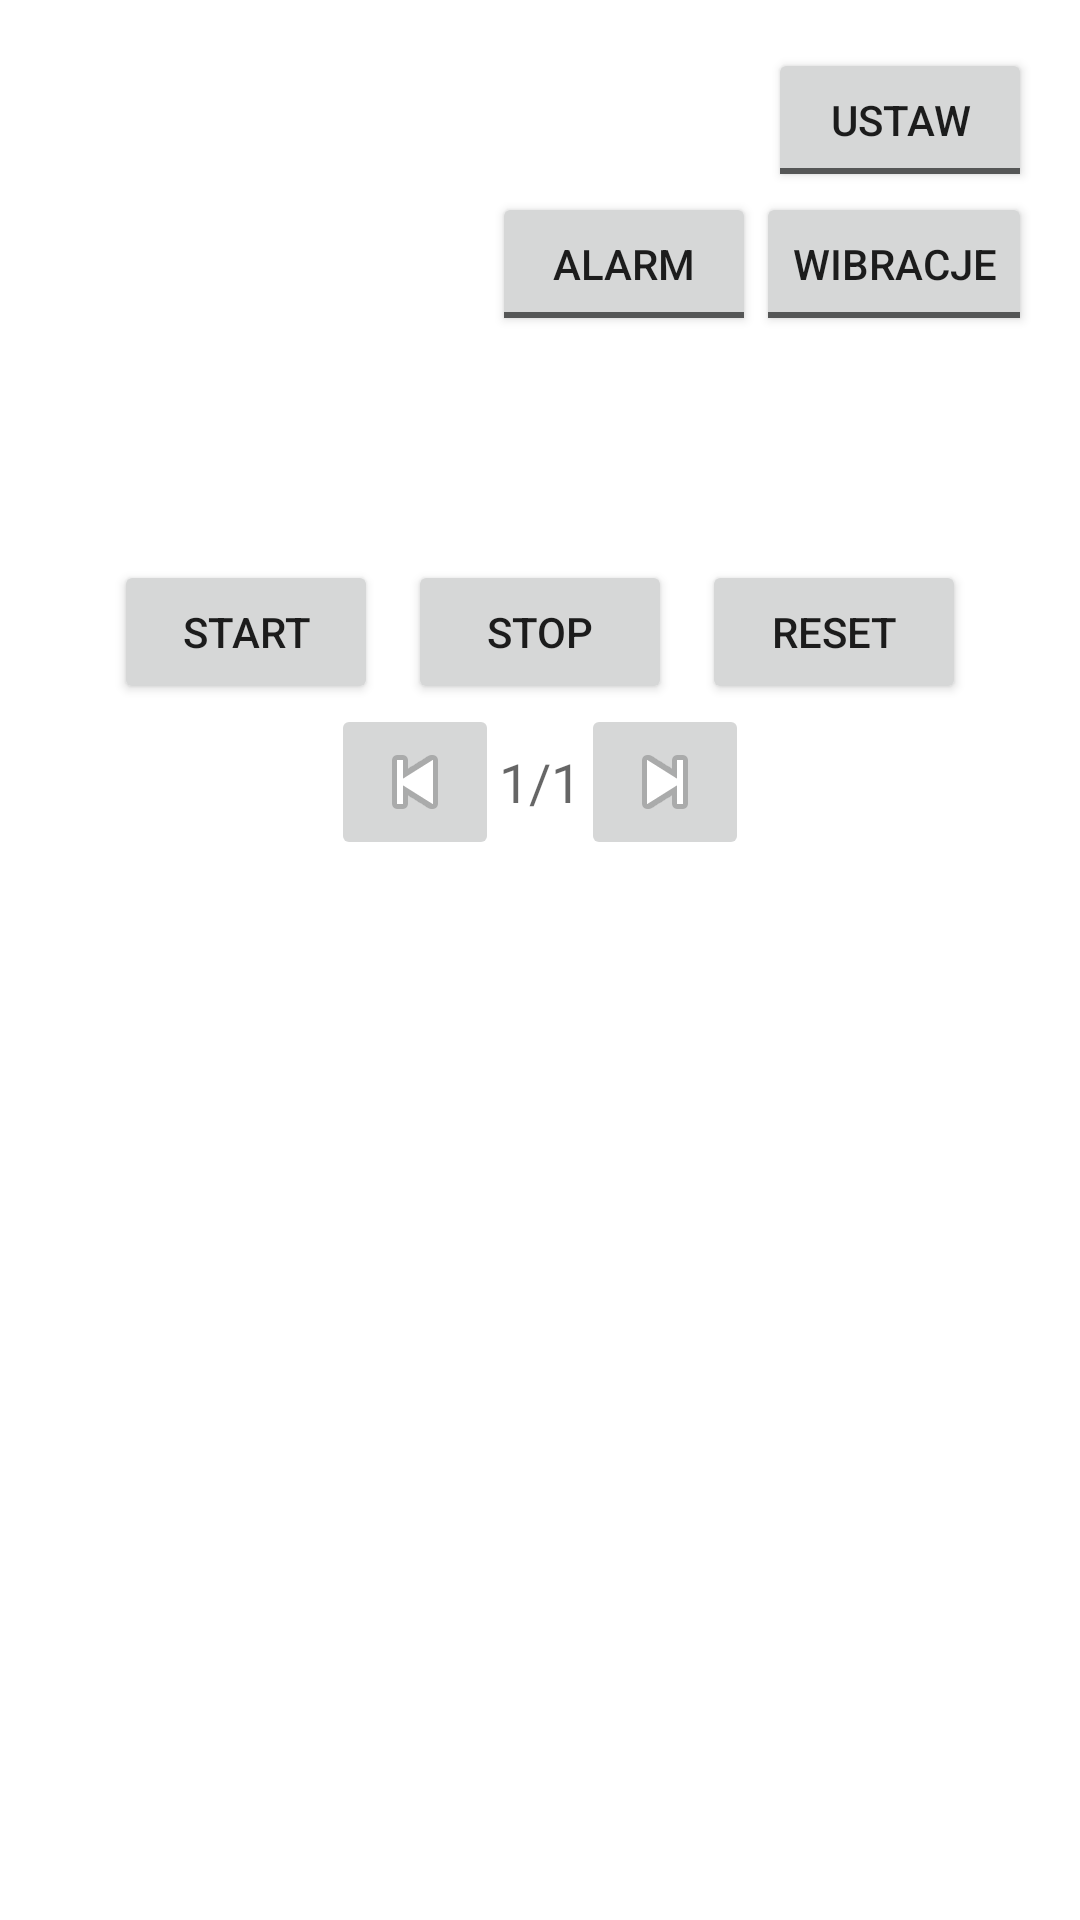

Screen size 1080×1920. Icon name, then its center in pixels as (x,y):
next timer button: (665,782)
previous timer button: (415,782)
